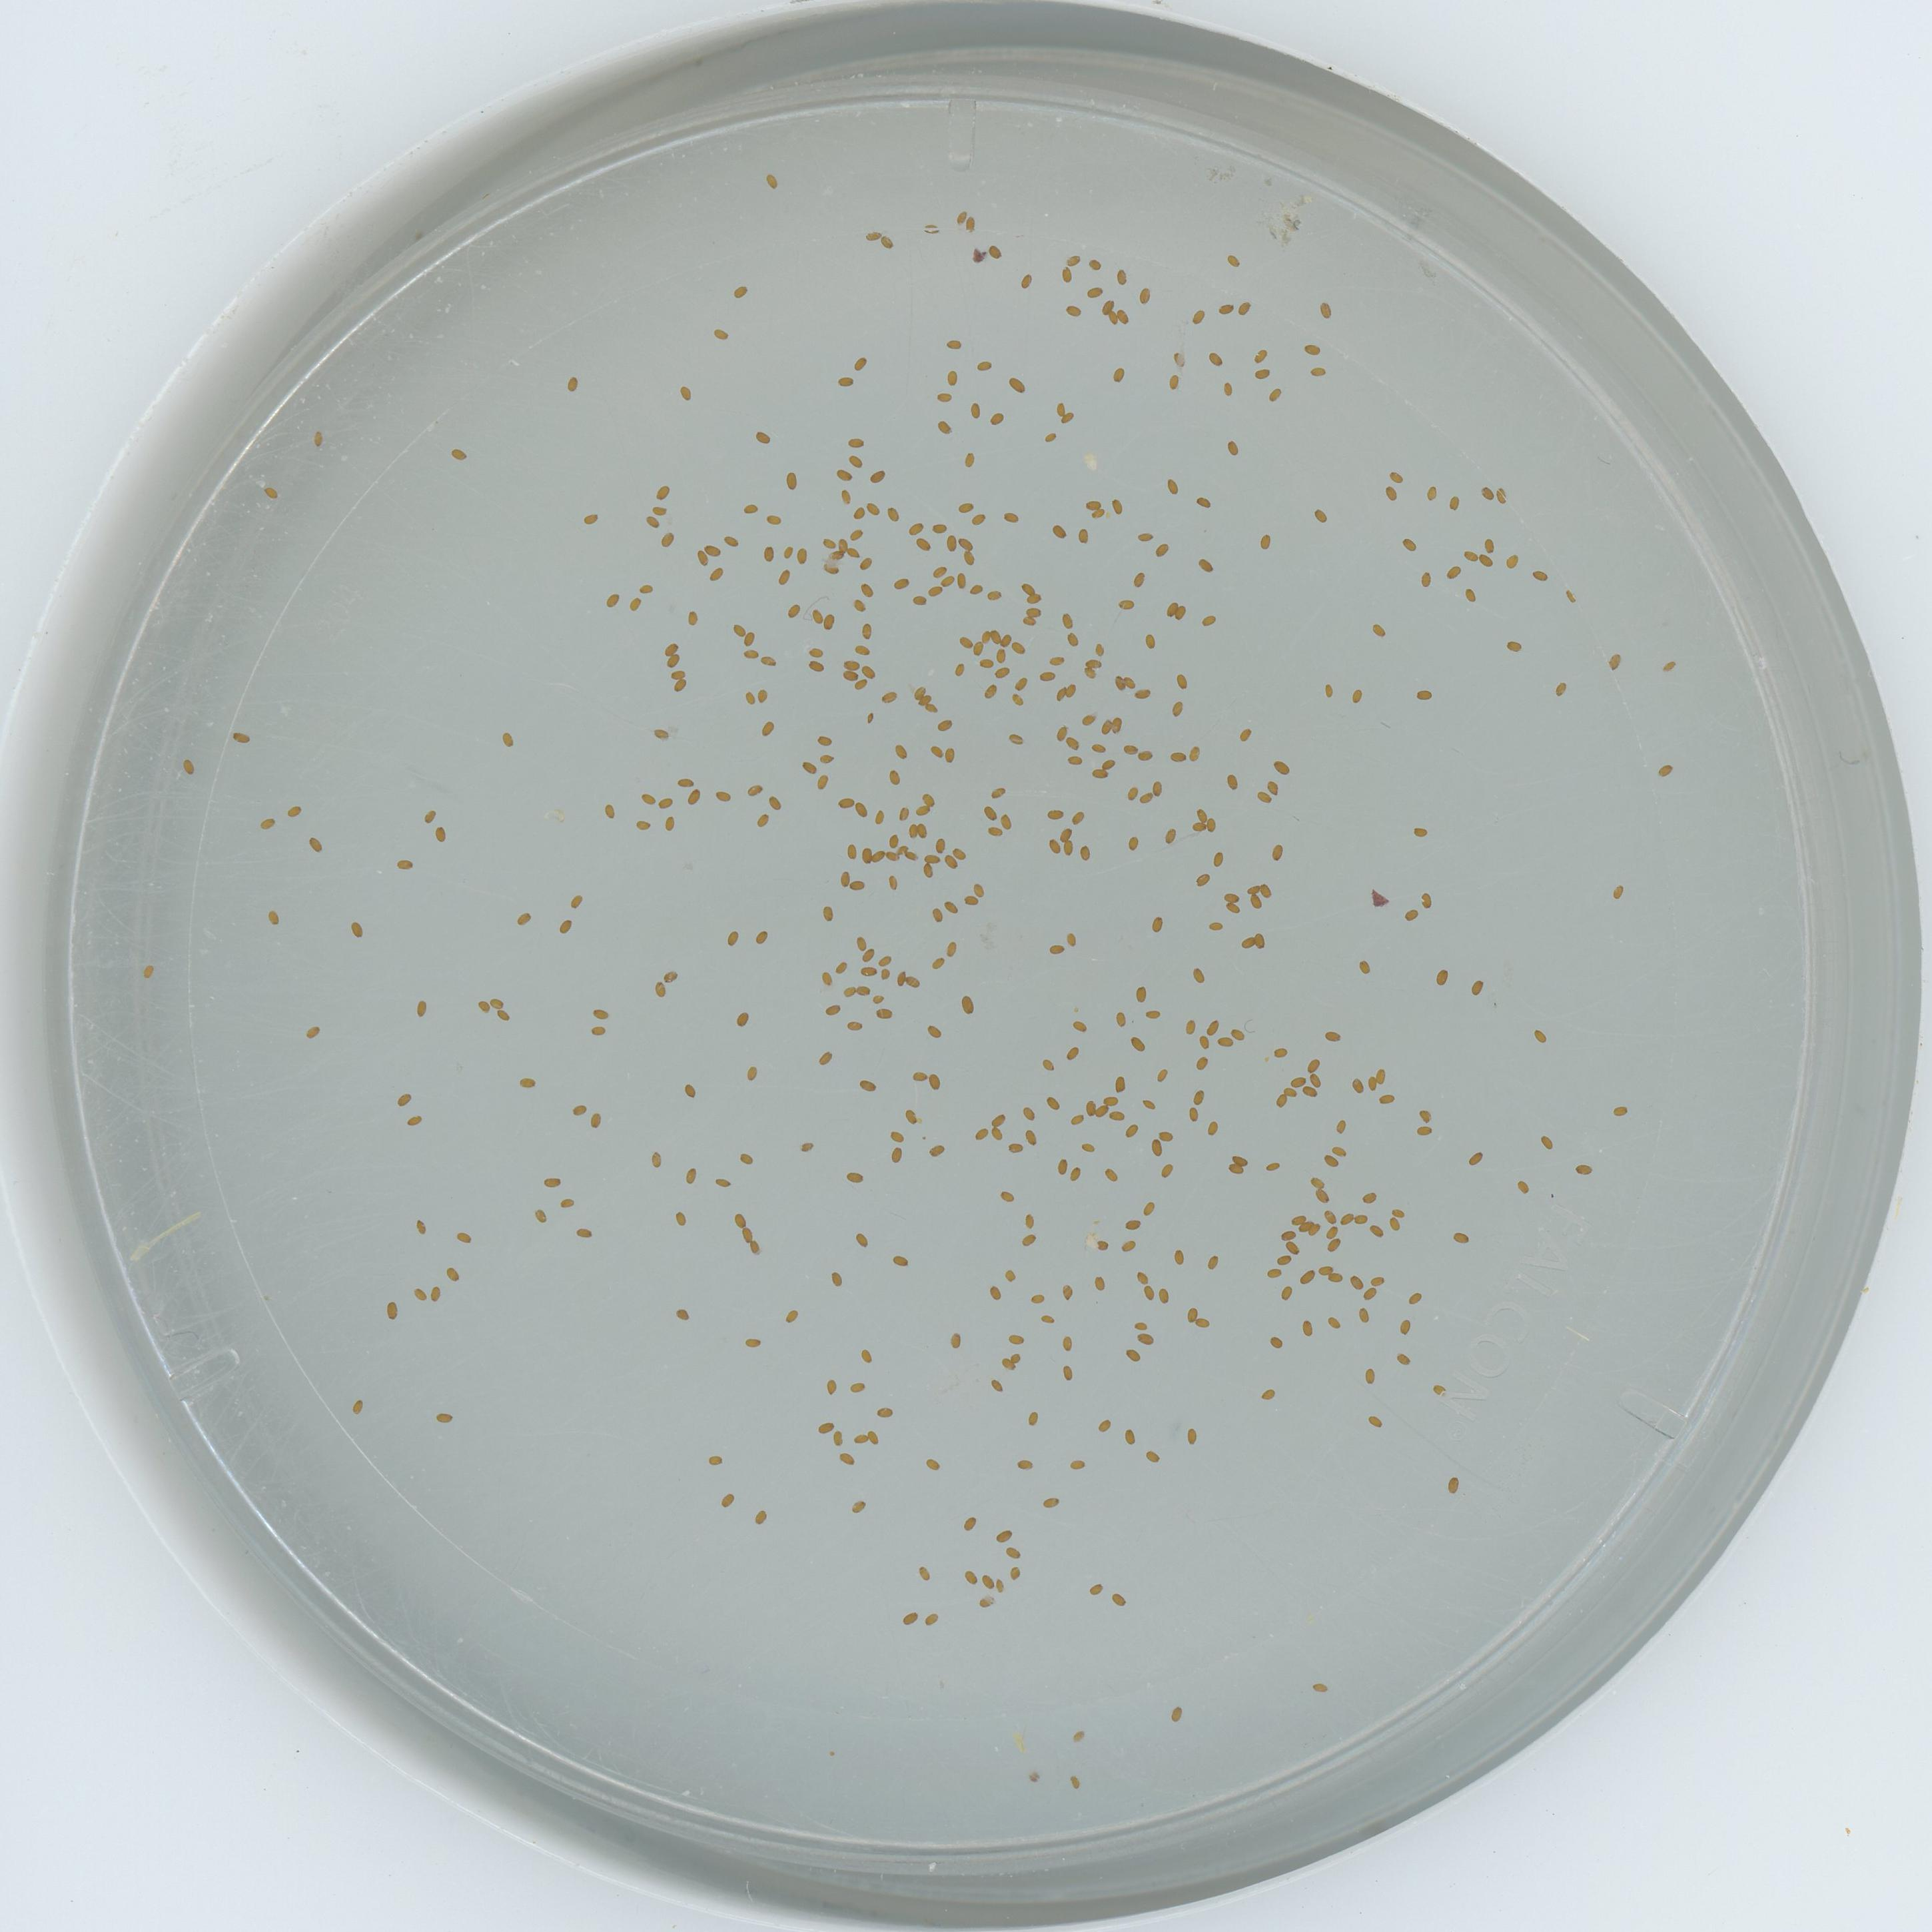seed: (382, 1299, 402, 1320), (1316, 301, 1336, 322), (1297, 1265, 1316, 1286), (782, 469, 801, 488), (943, 534, 961, 554), (704, 540, 724, 557), (754, 426, 773, 444), (685, 789, 704, 807), (901, 1608, 920, 1626), (839, 1449, 858, 1467), (1270, 757, 1290, 775), (1007, 375, 1026, 393), (1146, 1138, 1166, 1155), (1109, 1072, 1129, 1090), (1129, 1033, 1146, 1053), (801, 759, 819, 777), (893, 743, 911, 761), (754, 927, 771, 945), (943, 368, 961, 386), (230, 729, 248, 747), (821, 614, 839, 632), (628, 594, 646, 612), (759, 545, 777, 563), (839, 794, 856, 812), (821, 904, 839, 922), (916, 821, 934, 839), (925, 1072, 943, 1090), (860, 1074, 878, 1092), (892, 1249, 909, 1267), (888, 1145, 906, 1162), (855, 1230, 872, 1247), (1417, 892, 1435, 909), (1302, 338, 1320, 356), (1415, 686, 1433, 704), (1074, 844, 1092, 862), (1168, 701, 1185, 718), (1085, 281, 1102, 299), (1088, 740, 1106, 757), (1269, 844, 1286, 862), (1134, 287, 1152, 304), (1111, 674, 1129, 692), (1003, 1545, 1021, 1562), (1021, 1127, 1039, 1145), (1111, 1010, 1129, 1028), (1042, 1493, 1060, 1511), (1299, 1318, 1316, 1336), (1444, 1476, 1461, 1493), (1575, 1157, 1592, 1175), (1042, 1092, 1060, 1109), (1122, 1120, 1139, 1138), (1661, 658, 1679, 676), (885, 506, 904, 522), (766, 796, 786, 812), (725, 929, 745, 945), (862, 663, 881, 679), (847, 1166, 867, 1182), (683, 1166, 702, 1182), (1060, 632, 1079, 648), (1274, 1251, 1293, 1267), (1168, 1706, 1187, 1721), (961, 996, 977, 1016), (870, 467, 888, 483), (858, 623, 876, 639), (929, 563, 947, 579), (605, 591, 621, 609), (908, 520, 925, 536), (557, 918, 575, 934), (931, 837, 948, 853), (860, 580, 878, 596), (658, 531, 676, 547), (936, 418, 952, 435), (847, 453, 865, 469), (936, 387, 952, 405), (747, 782, 764, 798), (258, 816, 276, 832), (893, 575, 911, 591), (306, 839, 324, 855), (766, 510, 784, 525), (347, 920, 364, 936), (633, 817, 651, 833), (731, 621, 747, 639), (741, 632, 759, 648), (678, 775, 695, 791), (844, 844, 860, 862), (816, 775, 833, 791), (837, 467, 855, 483), (855, 801, 872, 817), (685, 610, 702, 626), (809, 646, 826, 662), (794, 548, 812, 564), (665, 653, 683, 669), (764, 172, 780, 189), (901, 823, 918, 839), (809, 660, 826, 676), (941, 939, 957, 957), (878, 1403, 895, 1419), (575, 1223, 593, 1238), (847, 1016, 865, 1031), (947, 1332, 964, 1348), (743, 1065, 761, 1081), (587, 1111, 605, 1127), (674, 1306, 692, 1322), (911, 1065, 927, 1083), (435, 1408, 453, 1424), (395, 1088, 412, 1104), (734, 1008, 752, 1024), (925, 1021, 943, 1037), (543, 1171, 561, 1187), (826, 1000, 844, 1016), (662, 968, 679, 984), (817, 1047, 835, 1063), (828, 1270, 846, 1286), (745, 1332, 763, 1348), (752, 1509, 770, 1525), (444, 1265, 462, 1281), (1194, 494, 1212, 510), (985, 587, 1003, 603), (1037, 669, 1054, 685), (1152, 541, 1169, 557), (1072, 529, 1090, 545), (1001, 510, 1019, 525), (1047, 653, 1065, 669), (1046, 939, 1063, 955), (989, 409, 1007, 425), (1062, 736, 1079, 752), (991, 648, 1008, 663), (1056, 612, 1074, 628), (1063, 249, 1081, 265), (1196, 557, 1214, 573), (1263, 780, 1281, 796), (1164, 373, 1182, 389), (989, 786, 1007, 801), (1049, 522, 1067, 538), (1223, 775, 1240, 791), (1192, 872, 1210, 888), (1189, 308, 1207, 324), (982, 805, 1000, 821), (1161, 828, 1178, 844), (968, 402, 985, 418), (1012, 676, 1030, 692), (1132, 688, 1150, 704), (1148, 916, 1166, 932), (1387, 469, 1405, 485), (1223, 439, 1240, 455), (1065, 683, 1083, 699), (1169, 350, 1187, 366), (1412, 824, 1430, 840), (1017, 272, 1035, 288), (1237, 934, 1254, 950), (1111, 269, 1129, 285), (1008, 692, 1026, 708), (1495, 487, 1511, 504), (1605, 653, 1622, 669), (1123, 837, 1141, 853), (1162, 478, 1180, 494), (1254, 932, 1272, 948), (1251, 347, 1269, 363), (1348, 1274, 1366, 1290), (1203, 1017, 1221, 1033), (1230, 1024, 1247, 1040), (1468, 1148, 1484, 1166), (1016, 1454, 1033, 1470), (1108, 1108, 1125, 1123), (1467, 980, 1484, 996), (1230, 1152, 1247, 1168), (1277, 1284, 1295, 1300), (989, 1109, 1007, 1125), (1313, 1187, 1330, 1203), (987, 1376, 1005, 1392), (1037, 1054, 1054, 1070), (1396, 1316, 1414, 1332), (1323, 1026, 1341, 1042), (1058, 1283, 1074, 1300), (1100, 1166, 1118, 1182), (1053, 1157, 1069, 1175), (1123, 1214, 1141, 1230), (1037, 1311, 1054, 1327), (1122, 1346, 1139, 1362), (1067, 1454, 1085, 1470), (1180, 1017, 1198, 1033), (1138, 1200, 1155, 1215), (1136, 1330, 1154, 1346), (996, 1527, 1014, 1543), (1304, 1054, 1322, 1070), (1120, 1428, 1138, 1444), (1415, 1106, 1433, 1122), (1322, 1208, 1339, 1224), (1143, 1449, 1161, 1465), (1132, 985, 1150, 1001), (1019, 1104, 1037, 1120), (1453, 1230, 1470, 1246), (1182, 1428, 1200, 1444), (1263, 1157, 1281, 1173), (1368, 1223, 1385, 1238), (1415, 1122, 1433, 1138), (1394, 1350, 1412, 1366), (1332, 1116, 1348, 1134), (1187, 968, 1205, 984), (1355, 959, 1373, 975), (978, 1596, 996, 1612), (1065, 1775, 1083, 1790), (1069, 1729, 1086, 1744), (1352, 1210, 1371, 1224), (856, 642, 872, 658), (851, 525, 867, 541), (646, 515, 662, 531), (663, 639, 679, 655), (853, 934, 869, 950), (867, 499, 883, 515), (931, 518, 947, 534), (602, 803, 617, 819), (943, 901, 959, 916), (817, 734, 833, 750), (929, 908, 945, 924), (745, 501, 761, 517), (860, 556, 876, 571), (888, 770, 904, 786), (695, 550, 711, 566), (936, 717, 952, 732), (819, 750, 835, 766), (915, 803, 931, 819), (883, 688, 899, 704), (947, 336, 962, 352), (584, 510, 600, 525), (839, 372, 855, 387), (761, 720, 777, 736), (568, 893, 584, 909), (656, 485, 672, 501), (564, 375, 580, 391), (853, 356, 869, 372), (709, 566, 725, 582), (396, 858, 412, 874), (724, 533, 740, 548), (515, 909, 531, 925), (927, 745, 943, 761), (658, 796, 674, 812), (839, 488, 855, 504), (678, 386, 694, 402), (755, 688, 771, 704), (941, 747, 957, 763), (715, 787, 731, 803), (432, 828, 448, 844), (879, 234, 895, 249), (787, 602, 803, 617), (755, 812, 771, 828), (653, 725, 669, 741), (265, 909, 281, 925), (821, 534, 837, 550), (886, 833, 902, 849), (663, 817, 679, 833), (867, 226, 883, 242), (872, 810, 888, 826), (451, 446, 467, 462), (957, 633, 973, 649), (499, 732, 515, 748), (671, 665, 686, 681), (180, 759, 196, 775), (931, 955, 947, 971), (872, 991, 888, 1007), (851, 1497, 867, 1513), (860, 1346, 876, 1362), (924, 1610, 939, 1626), (925, 1454, 941, 1470), (520, 1072, 536, 1088), (428, 1284, 444, 1300), (878, 1005, 893, 1021), (683, 1081, 699, 1097), (720, 1491, 736, 1507), (474, 998, 490, 1014), (349, 1399, 364, 1415), (412, 1217, 428, 1233), (904, 973, 920, 989), (533, 1207, 548, 1223), (456, 1228, 472, 1244), (304, 1023, 320, 1039), (648, 1150, 663, 1166), (890, 1125, 906, 1141), (591, 1023, 607, 1039), (571, 1099, 587, 1115), (819, 1417, 835, 1433), (786, 1306, 801, 1322), (902, 1108, 918, 1123), (826, 1376, 842, 1392), (740, 1226, 755, 1242), (916, 1566, 932, 1582), (708, 1453, 724, 1468), (821, 970, 837, 985), (672, 1208, 688, 1224), (717, 1175, 732, 1191), (748, 1238, 764, 1254), (878, 966, 893, 982), (929, 1139, 945, 1155), (800, 1136, 816, 1152), (982, 685, 998, 701), (1063, 301, 1079, 317), (1403, 906, 1419, 922), (1254, 366, 1270, 382), (1504, 554, 1520, 570), (1313, 508, 1329, 524), (1207, 350, 1223, 366), (1136, 529, 1152, 545), (1320, 683, 1336, 699), (1109, 366, 1125, 382), (1044, 839, 1060, 855), (1532, 566, 1548, 582), (1552, 681, 1568, 697), (1008, 732, 1024, 748), (1173, 674, 1189, 690), (1108, 499, 1123, 515), (1062, 931, 1077, 947), (1017, 580, 1033, 596), (1131, 571, 1146, 587), (1610, 885, 1626, 901), (1256, 534, 1272, 550), (1010, 640, 1026, 656), (1224, 251, 1240, 267), (1479, 485, 1495, 501), (1237, 299, 1253, 315), (1049, 725, 1065, 741), (987, 242, 1003, 258), (1417, 571, 1433, 587), (1141, 633, 1157, 649), (1445, 494, 1461, 510), (1069, 810, 1085, 826), (1122, 786, 1138, 801), (1217, 299, 1233, 315), (1208, 851, 1224, 867), (1085, 494, 1100, 510), (1040, 430, 1056, 446), (1346, 688, 1362, 704), (1136, 748, 1152, 764), (1060, 842, 1076, 858), (1309, 363, 1325, 379), (1369, 623, 1385, 639), (1115, 308, 1131, 324), (1191, 807, 1207, 823), (977, 656, 993, 672), (971, 883, 987, 899), (1562, 589, 1578, 605), (1361, 1189, 1376, 1205), (1088, 1582, 1104, 1598), (1316, 1260, 1332, 1276), (1079, 1138, 1095, 1154), (1145, 1005, 1161, 1021), (1430, 1380, 1445, 1396), (1028, 1290, 1044, 1306), (1093, 1237, 1109, 1253), (1288, 1070, 1304, 1086), (989, 1125, 1005, 1141), (1021, 1212, 1037, 1228), (1169, 1249, 1185, 1265), (1407, 1288, 1422, 1304), (1007, 1566, 1023, 1582), (998, 1187, 1014, 1203), (1058, 1362, 1074, 1378), (1265, 1265, 1281, 1281), (1060, 1336, 1076, 1352), (1023, 1408, 1039, 1424), (1338, 1210, 1353, 1226), (1217, 1033, 1233, 1049), (1532, 1026, 1548, 1042), (1355, 1306, 1371, 1322), (1203, 1118, 1219, 1134), (987, 1284, 1003, 1300), (1090, 1274, 1106, 1290), (1269, 1334, 1284, 1350), (1362, 1368, 1378, 1384), (1152, 1065, 1168, 1081), (1139, 1284, 1155, 1300), (1270, 1044, 1286, 1060), (1118, 1237, 1134, 1253), (1433, 970, 1449, 985), (973, 1125, 989, 1141), (1614, 1100, 1629, 1116), (1095, 1417, 1111, 1433), (1203, 1253, 1219, 1269), (1369, 1270, 1385, 1286), (1322, 1152, 1338, 1168), (1539, 1134, 1555, 1150), (1192, 1053, 1208, 1069), (1021, 1231, 1037, 1247), (1260, 1385, 1276, 1401), (1191, 1086, 1207, 1102), (1368, 1414, 1384, 1430), (1069, 1017, 1085, 1033), (1325, 1315, 1341, 1330), (1001, 1265, 1017, 1281), (1307, 1070, 1323, 1086), (1155, 1288, 1171, 1304), (1157, 1161, 1173, 1177), (978, 1573, 994, 1589), (1311, 1679, 1327, 1695), (311, 432, 327, 448), (262, 487, 278, 502), (761, 655, 778, 669), (640, 793, 658, 807), (732, 283, 750, 297), (847, 435, 865, 449), (851, 504, 869, 518), (862, 947, 879, 961), (777, 570, 794, 584), (849, 879, 867, 893), (844, 656, 862, 671), (672, 679, 690, 694), (855, 678, 872, 692), (842, 669, 860, 683), (591, 1007, 609, 1021), (849, 1378, 867, 1392), (412, 1000, 426, 1017), (856, 982, 874, 996), (405, 1113, 423, 1127), (1099, 757, 1116, 771), (1056, 267, 1074, 281), (1046, 807, 1063, 821), (1120, 741, 1138, 755), (1168, 750, 1185, 764), (1207, 918, 1224, 932), (1019, 616, 1037, 630), (1116, 596, 1134, 610), (975, 357, 993, 372), (1065, 754, 1083, 768), (993, 665, 1010, 679), (1461, 587, 1479, 602), (1088, 642, 1106, 656), (1658, 764, 1675, 778), (987, 628, 1001, 646), (1192, 1033, 1210, 1047), (1063, 1046, 1081, 1060), (1323, 1224, 1341, 1238), (1109, 1592, 1127, 1606), (1391, 1203, 1408, 1217), (1192, 1316, 1210, 1330), (1157, 1127, 1175, 1141), (1375, 1065, 1389, 1083), (1376, 1090, 1394, 1104), (1283, 1240, 1300, 1254), (1274, 1092, 1288, 1109), (1307, 1173, 1325, 1187), (1083, 1099, 1097, 1116), (1102, 1092, 1120, 1106), (924, 223, 941, 237), (1099, 717, 1111, 736), (1083, 656, 1102, 669), (1224, 1161, 1244, 1173), (924, 853, 939, 867), (897, 807, 913, 821), (943, 856, 957, 872), (886, 876, 902, 890), (639, 582, 655, 596), (915, 538, 931, 552), (421, 810, 437, 824), (879, 952, 895, 966), (853, 598, 869, 612), (743, 649, 759, 663), (741, 690, 757, 704), (929, 584, 945, 598), (810, 609, 826, 623), (950, 662, 964, 678), (847, 545, 863, 559), (287, 803, 303, 817), (920, 865, 936, 879), (920, 793, 936, 807), (780, 545, 796, 559), (839, 872, 853, 888), (713, 326, 729, 340), (860, 849, 876, 863), (911, 683, 925, 699), (872, 847, 886, 863), (824, 564, 840, 579), (904, 851, 920, 865), (952, 209, 966, 225), (488, 994, 504, 1008), (732, 1210, 748, 1224), (655, 982, 671, 996), (840, 984, 856, 998), (559, 1196, 575, 1210), (853, 1431, 869, 1445), (895, 970, 909, 985), (832, 1431, 846, 1447), (740, 1150, 755, 1164), (1445, 564, 1461, 579), (968, 582, 984, 596), (1223, 890, 1238, 904), (1056, 828, 1072, 842), (1200, 612, 1215, 626), (1461, 548, 1477, 563), (1079, 713, 1095, 727), (1000, 816, 1016, 830), (1267, 387, 1283, 402), (1189, 821, 1205, 835), (1479, 554, 1495, 568), (1384, 487, 1399, 501), (1254, 793, 1270, 807), (1401, 538, 1417, 552), (966, 893, 980, 909), (1086, 257, 1102, 271), (1424, 485, 1440, 499), (1506, 639, 1522, 653), (1187, 745, 1201, 761), (1109, 717, 1123, 732), (1481, 538, 1497, 552), (1203, 819, 1219, 833), (1173, 605, 1187, 621), (1237, 727, 1253, 741), (971, 640, 985, 656), (1090, 768, 1106, 782), (1217, 382, 1233, 396), (1081, 669, 1097, 683), (1244, 883, 1260, 897), (1058, 410, 1074, 425), (1260, 883, 1274, 899), (1136, 793, 1152, 807), (1000, 632, 1014, 648), (1007, 1138, 1023, 1152), (1325, 1238, 1341, 1253), (1008, 1330, 1024, 1345), (1514, 1178, 1530, 1192), (1185, 1106, 1201, 1120), (1131, 1316, 1146, 1330), (1327, 1270, 1343, 1284), (1139, 1095, 1155, 1109), (1330, 1141, 1346, 1155), (1362, 1286, 1378, 1300), (1069, 1166, 1085, 1180), (1350, 1077, 1364, 1093), (1134, 1269, 1150, 1283), (1095, 1104, 1111, 1118), (1069, 1111, 1085, 1125), (993, 1578, 1008, 1592), (830, 548, 847, 561), (651, 502, 669, 515), (957, 538, 975, 550), (1023, 605, 1040, 617), (1023, 593, 1040, 605), (1307, 1224, 1325, 1237), (941, 573, 955, 587), (869, 1430, 883, 1444), (412, 1286, 426, 1300), (495, 1008, 510, 1023), (833, 961, 847, 975), (1150, 782, 1164, 796), (971, 511, 985, 525), (1100, 299, 1115, 313), (1051, 402, 1065, 416), (1054, 688, 1069, 702), (998, 1357, 1012, 1371), (140, 966, 154, 980), (911, 594, 927, 607), (952, 846, 964, 862), (862, 966, 878, 978), (987, 826, 1003, 839), (1247, 897, 1263, 909), (1162, 602, 1175, 617), (1090, 508, 1106, 520), (966, 451, 978, 467), (1290, 1212, 1306, 1224), (1279, 1228, 1295, 1240), (1385, 1217, 1401, 1230), (1300, 1085, 1316, 1097), (1283, 1086, 1299, 1099), (1299, 1219, 1315, 1231), (1224, 904, 1242, 915), (886, 853, 901, 865), (839, 536, 851, 550), (1123, 674, 1136, 688), (1366, 1076, 1378, 1090), (966, 1516, 978, 1530), (955, 571, 966, 587), (918, 695, 934, 706), (966, 552, 977, 568), (966, 1569, 977, 1585), (966, 214, 975, 232), (1185, 1309, 1198, 1322), (1008, 1350, 1021, 1362), (955, 501, 966, 515), (925, 702, 939, 713), (865, 711, 876, 725), (966, 499, 975, 515), (982, 630, 991, 646), (899, 844, 909, 856), (1106, 313, 1118, 324)
